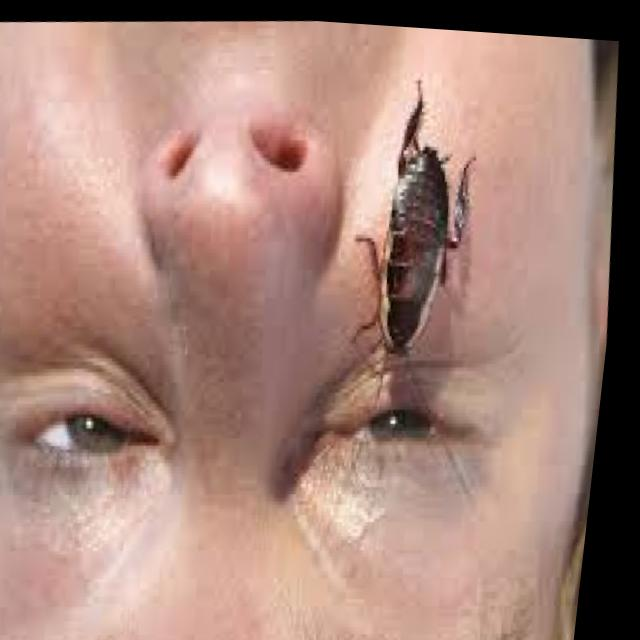Cockroach: (275, 49, 523, 566)
